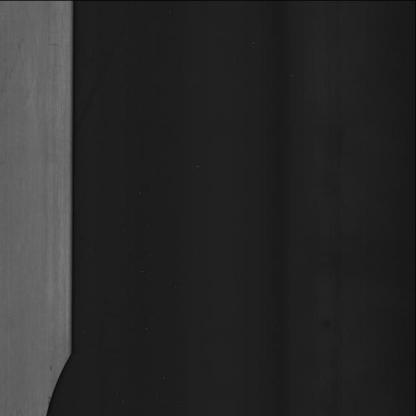crescent_gap: (36, 336, 84, 415)
